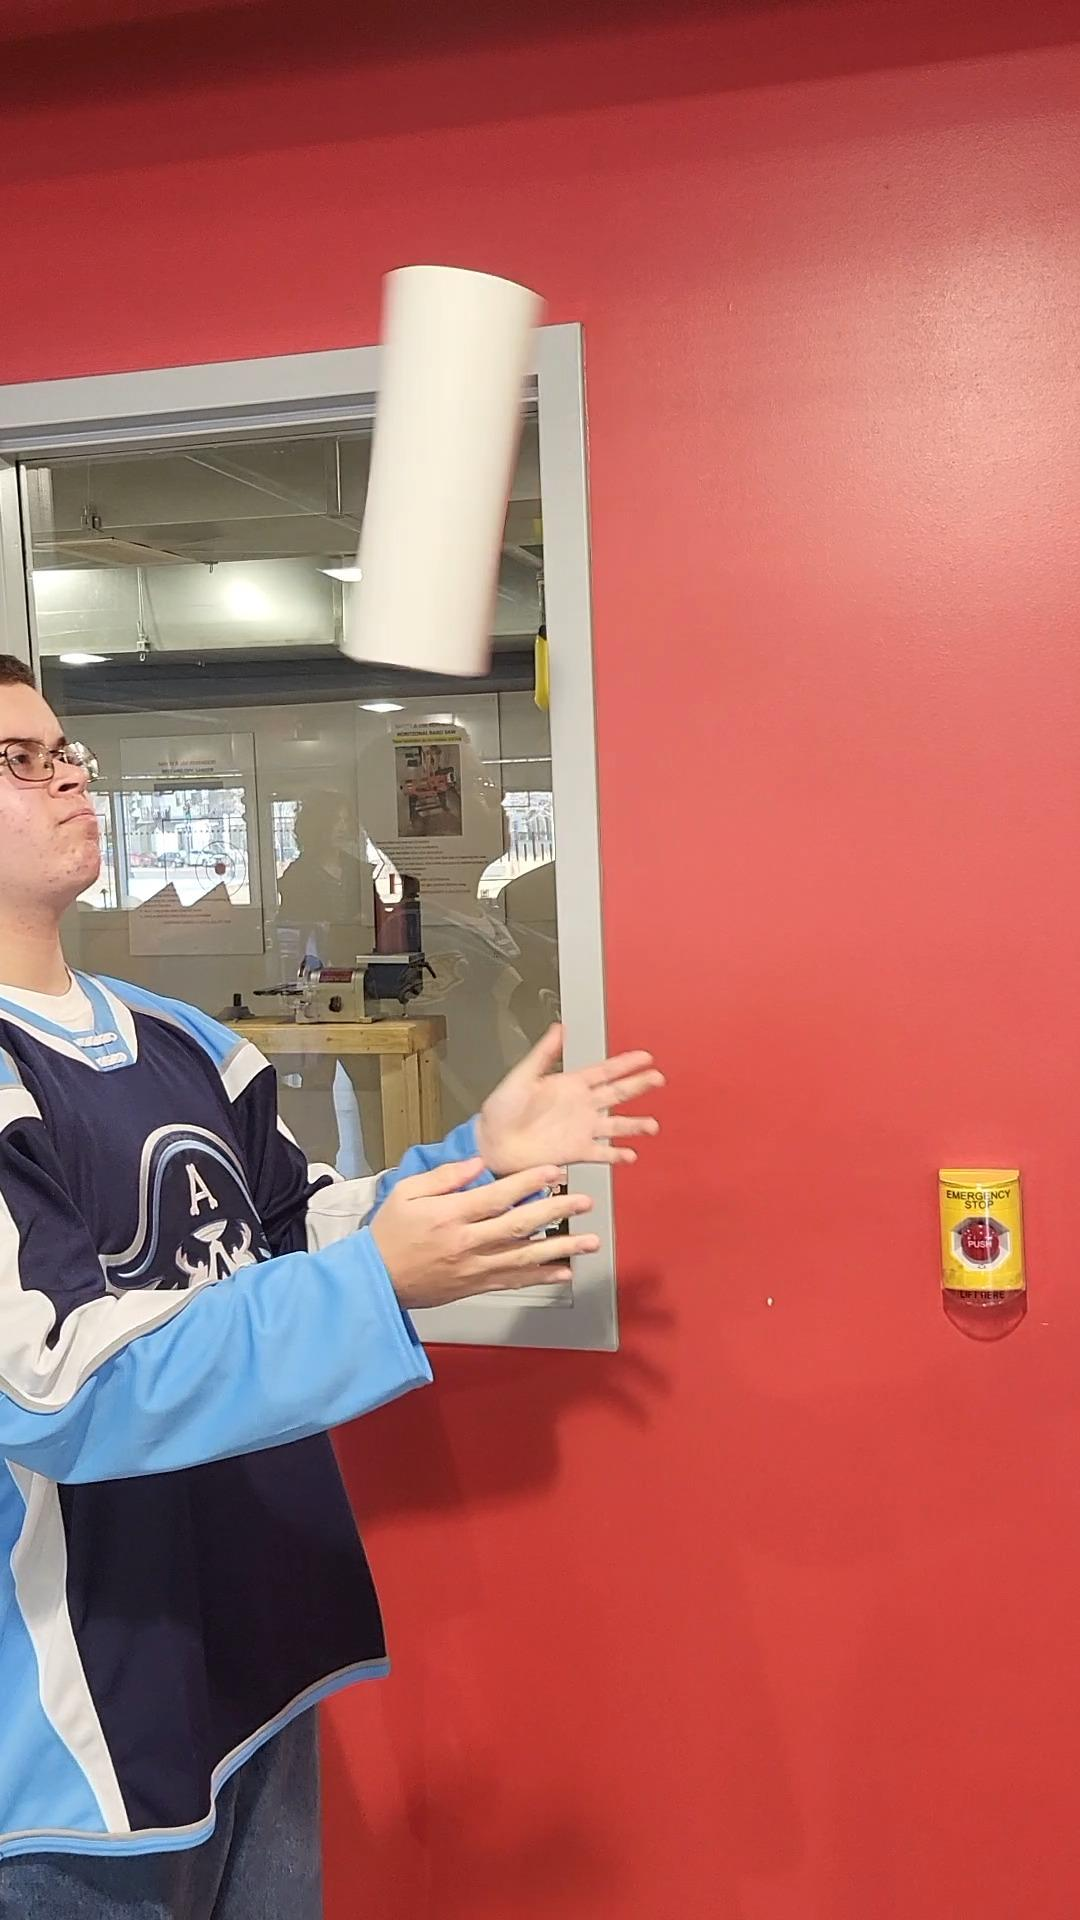coral: (340, 257, 550, 690)
